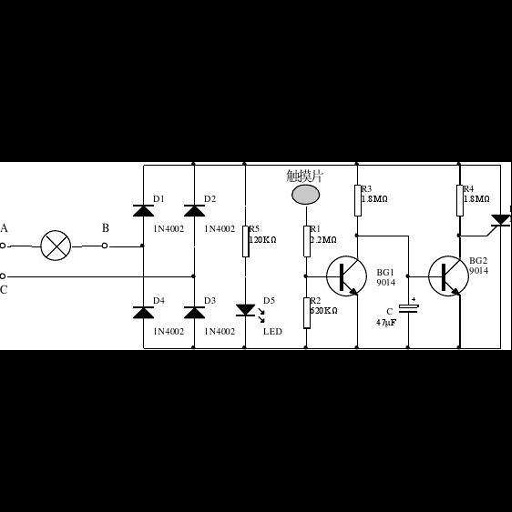firstdiode: (128, 303, 156, 322), (181, 201, 207, 221), (128, 201, 155, 220), (180, 304, 207, 323)
firstled: (233, 301, 266, 326)
firstresistance: (452, 182, 465, 223), (349, 182, 363, 219), (299, 295, 312, 332), (300, 223, 312, 259), (239, 222, 249, 263)
light: (36, 230, 76, 262)
npn: (436, 260, 462, 296), (333, 261, 358, 295)
secondpolarcapacitor: (396, 295, 424, 317)
